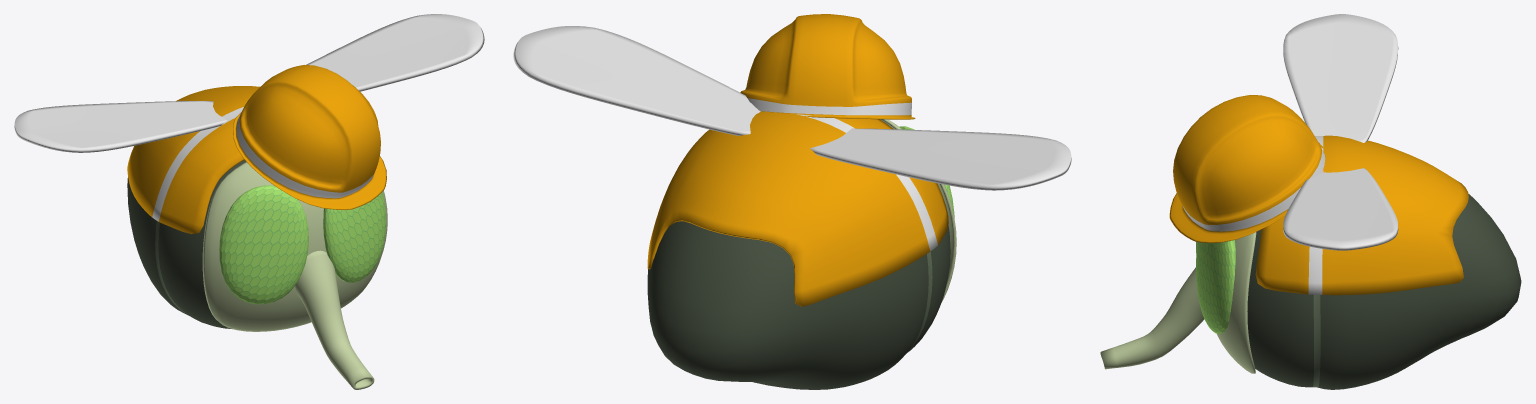
The model's file is melo mosco.fbx.
3 renders of one model, left to right at view 1: azimuth 30°, elevation 25°; view 2: azimuth 150°, elevation 25°; view 3: azimuth 270°, elevation 25°, orthographic. The views are drawn at different scales.
Visible parts, largest first — view 1: Cube.003, Plane, DualMesh, Cube.002, Cube.001, Cube, Cylinder; view 2: Cube, Cube.002, Plane, Cube.003, Cube.001; view 3: Cube, Plane, Cube.002, Cube.003, Cylinder, DualMesh, Cube.001.
Boxes of the visible parts, x1=… form: Cube.003: x1=233, y1=65, x2=386, y2=209; Plane: x1=14, y1=14, x2=484, y2=152; DualMesh: x1=219, y1=185, x2=385, y2=304; Cube.002: x1=127, y1=86, x2=259, y2=234; Cube.001: x1=202, y1=161, x2=387, y2=331; Cube: x1=127, y1=160, x2=245, y2=329; Cylinder: x1=295, y1=250, x2=374, y2=389; Cube: x1=647, y1=221, x2=950, y2=389; Cube.002: x1=647, y1=111, x2=948, y2=306; Plane: x1=513, y1=26, x2=1071, y2=190; Cube.003: x1=740, y1=14, x2=915, y2=119; Cube.001: x1=880, y1=119, x2=956, y2=302; Cube: x1=1247, y1=194, x2=1521, y2=389; Plane: x1=1283, y1=14, x2=1398, y2=250; Cube.002: x1=1255, y1=135, x2=1468, y2=295; Cube.003: x1=1169, y1=95, x2=1325, y2=242; Cylinder: x1=1100, y1=267, x2=1204, y2=369; DualMesh: x1=1196, y1=240, x2=1235, y2=333; Cube.001: x1=1216, y1=232, x2=1256, y2=373.
Bounding box in the file's own units: 355 × 195 × 271.
